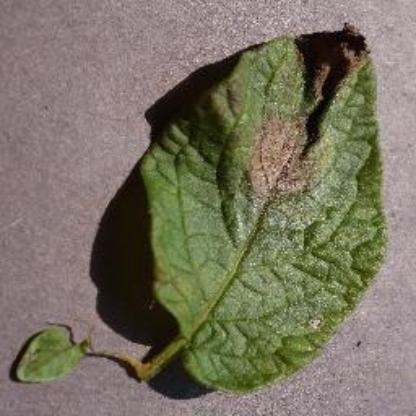Late-Blight: (110, 26, 406, 384)
